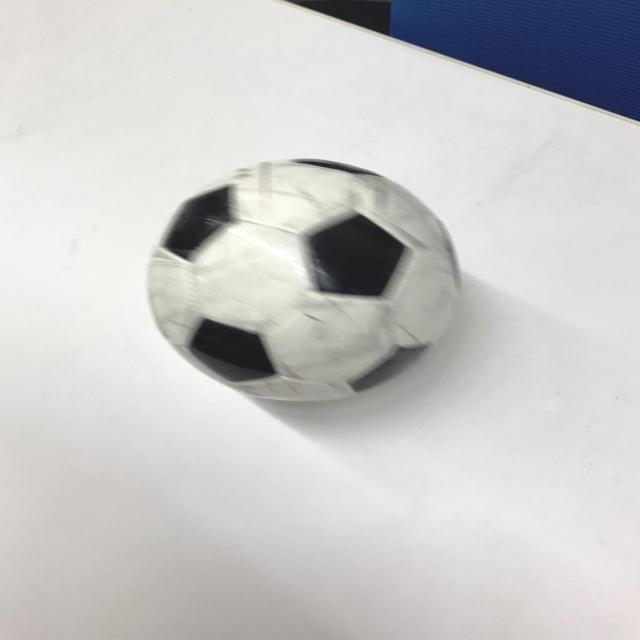Soccer Ball: (149, 157, 462, 405)
